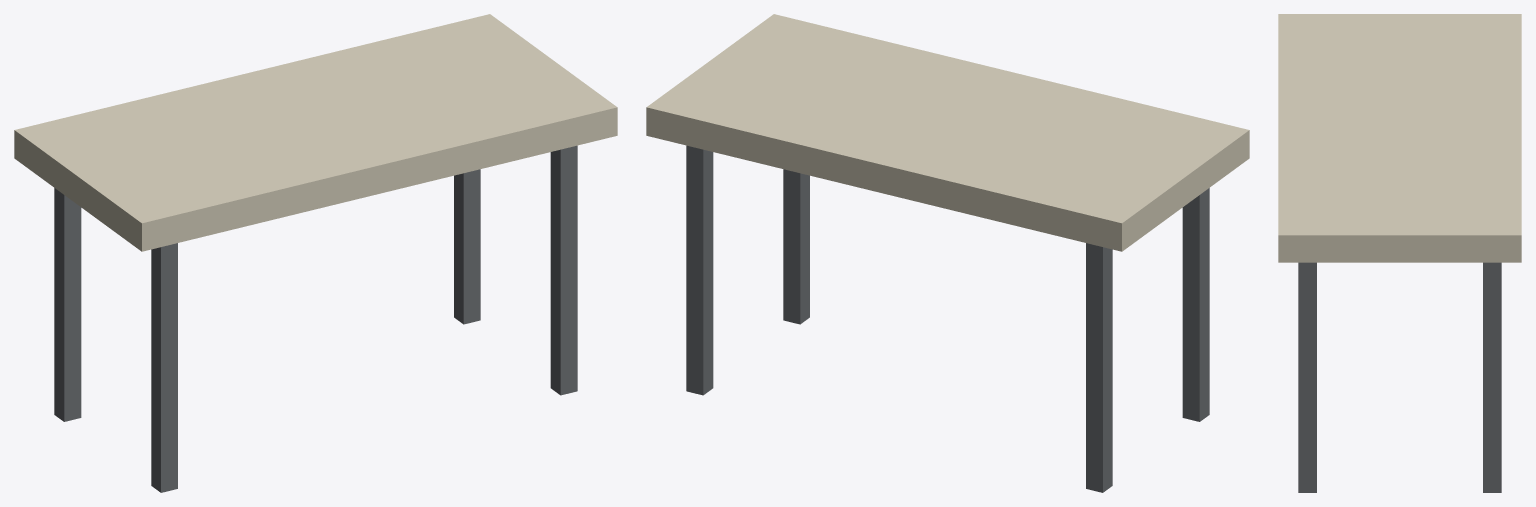
File: table_02.glb
3 renders of one model, left to right at view 1: azimuth 30°, elevation 25°; view 2: azimuth 150°, elevation 25°; view 3: azimuth 270°, elevation 25°, orthographic. The views are drawn at different scales.
Visible parts, largest first — view 1: top, leg0.5880.24700000000000003, leg-0.5880.24700000000000003, leg-0.588-0.24700000000000003, leg0.588-0.24700000000000003; view 2: top, leg0.588-0.24700000000000003, leg-0.588-0.24700000000000003, leg-0.5880.24700000000000003, leg0.5880.24700000000000003; view 3: top, leg0.588-0.24700000000000003, leg0.5880.24700000000000003.
Part boxes in pixels (x1,y1,x2,y2): top: (14, 14, 617, 251); leg0.5880.24700000000000003: (550, 145, 577, 395); leg-0.5880.24700000000000003: (151, 243, 177, 492); leg-0.588-0.24700000000000003: (54, 188, 81, 421); leg0.588-0.24700000000000003: (454, 169, 480, 324); top: (646, 14, 1249, 251); leg0.588-0.24700000000000003: (686, 145, 713, 395); leg-0.588-0.24700000000000003: (1086, 243, 1112, 492); leg-0.5880.24700000000000003: (1182, 188, 1209, 421); leg0.5880.24700000000000003: (783, 169, 809, 324); top: (1278, 14, 1521, 262); leg0.588-0.24700000000000003: (1483, 262, 1501, 492); leg0.5880.24700000000000003: (1298, 262, 1316, 492).
Bounding box in the file's own units: 1.4 × 0.8 × 0.65.
